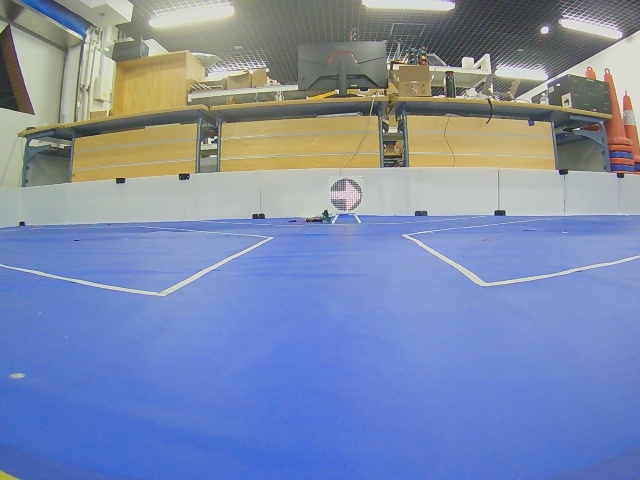right_yellow: (328, 178, 364, 212)
